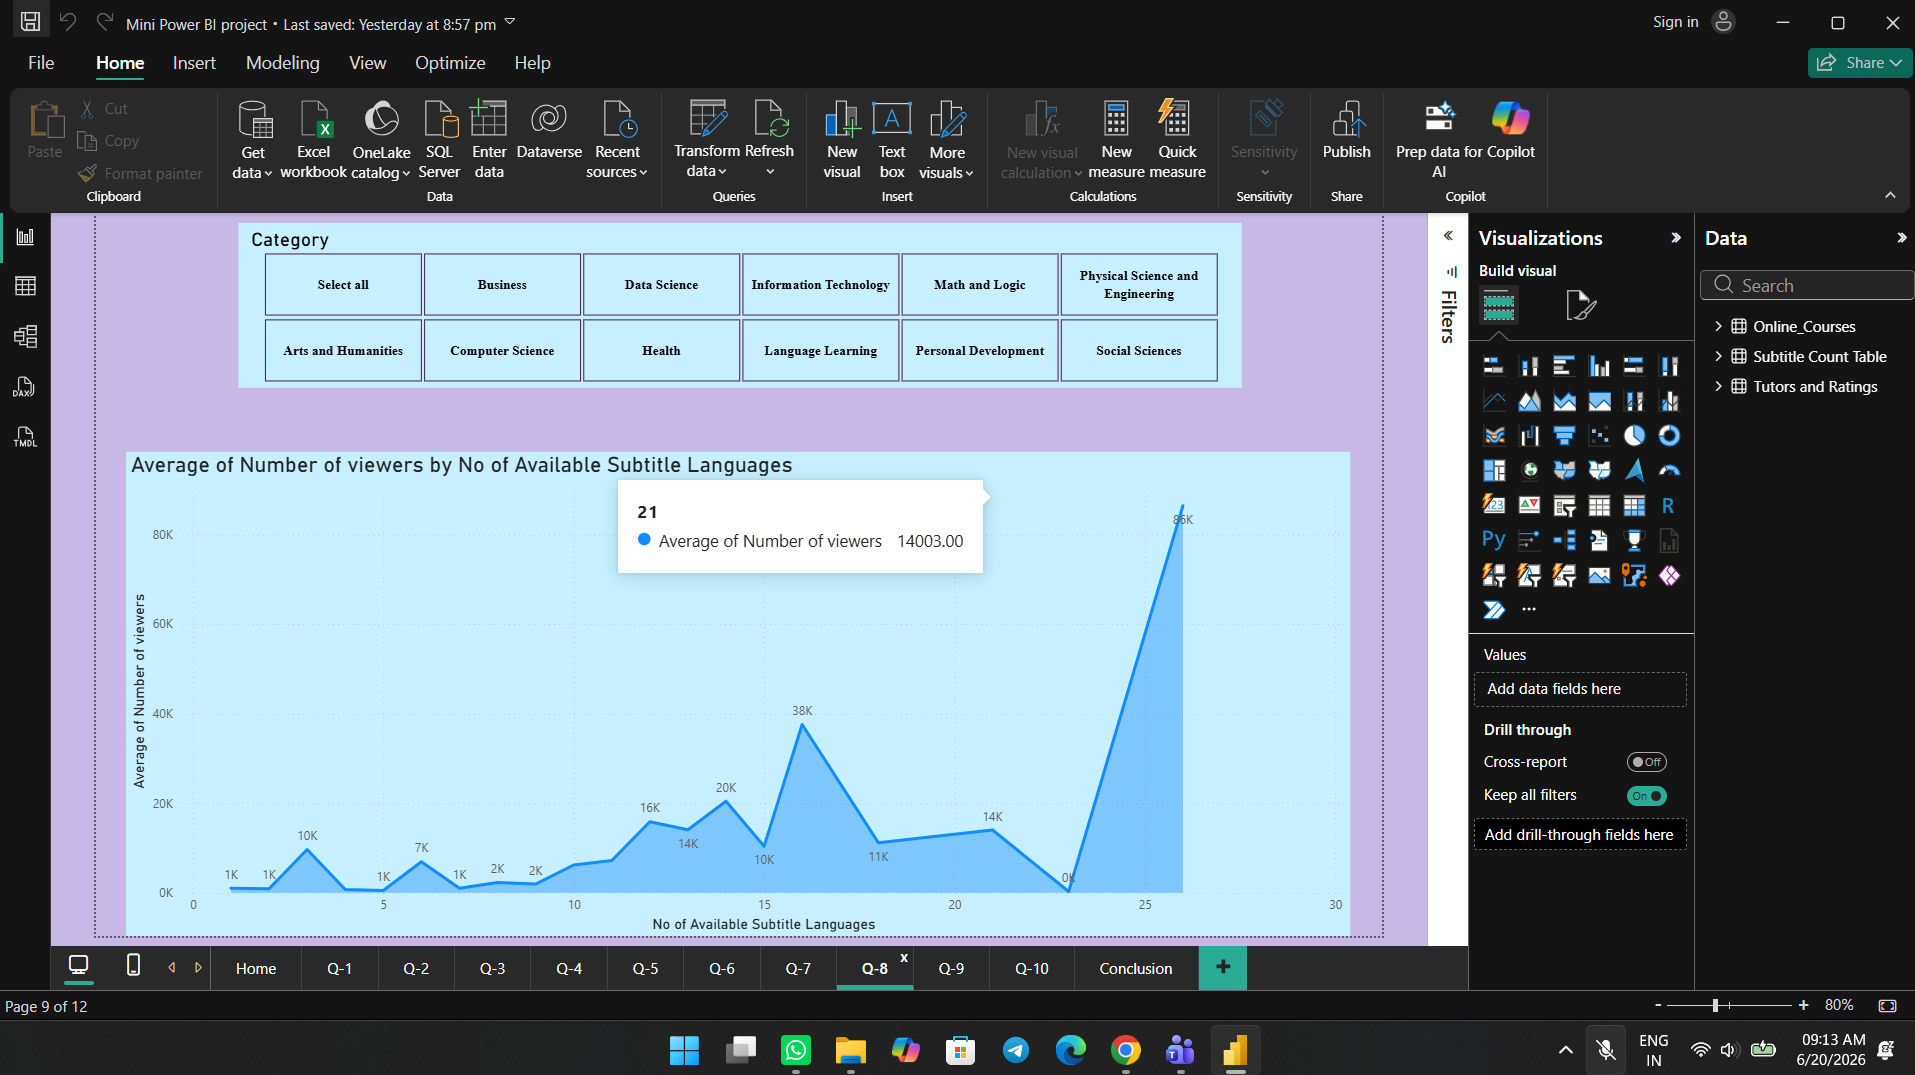

What the dashboard file says about the page in this screenshot:
{"tool":"powerbi","page":{"name":"Q-8","canvas":[1280,720],"ordinal":8},"visuals":[{"type":"areaChart","fields":{"Category":["Subtitle Count Table.No of Available Subtitle Languages"],"Y":["Avg(Subtitle Count Table.Number of viewers)"]},"box":[30,237.1,1218.6,482.9],"z":0},{"type":"slicer","fields":{"Values":["Online_Courses.Category"]},"box":[141.4,10,998.6,164.3],"z":1000}]}

Visuals, with their boxes on the page's 1280x720 design canvas (x1, y1, x2, y2). These are canvas units, not pixel positions in the 1915x1075 screenshot, which may show the page scaled, cropped or inside an application window:
areaChart - Subtitle Count Table.No of Available Subtitle Languages x Avg(Subtitle Count Table.Number of viewers): bbox=[30, 237, 1249, 720]
slicer - Online_Courses.Category: bbox=[141, 10, 1140, 174]
